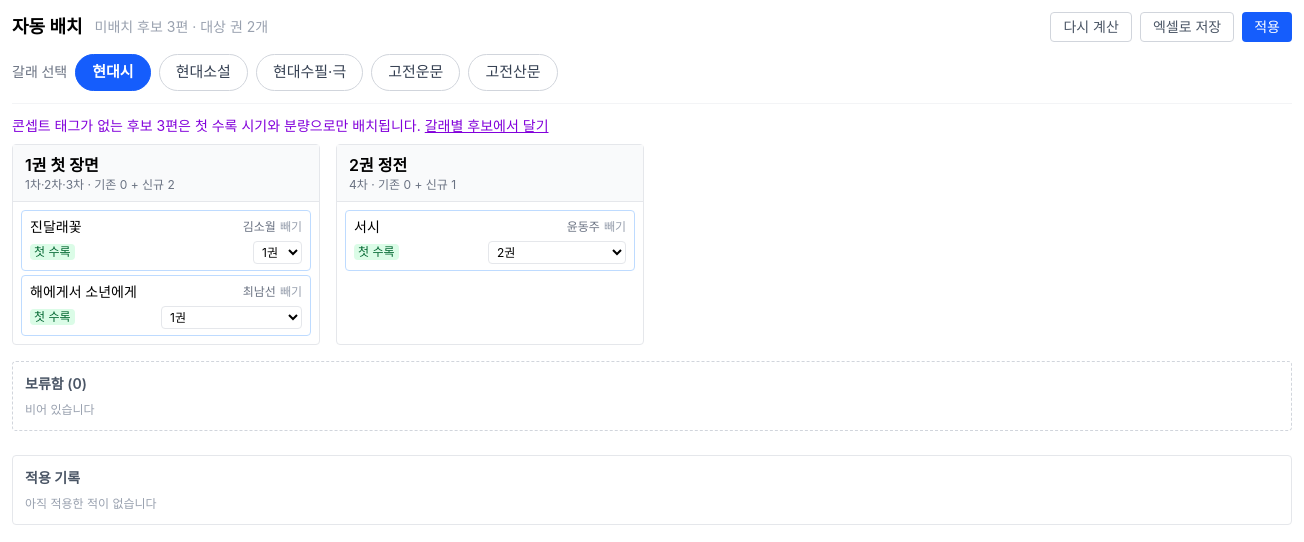
권 이동과 빼기가 즉시 반영된다
The image size is (1304, 542).
Select "2권" in the dropdown named "진달래꽃 권 이동" at (278, 252), box [253,240,302,264]
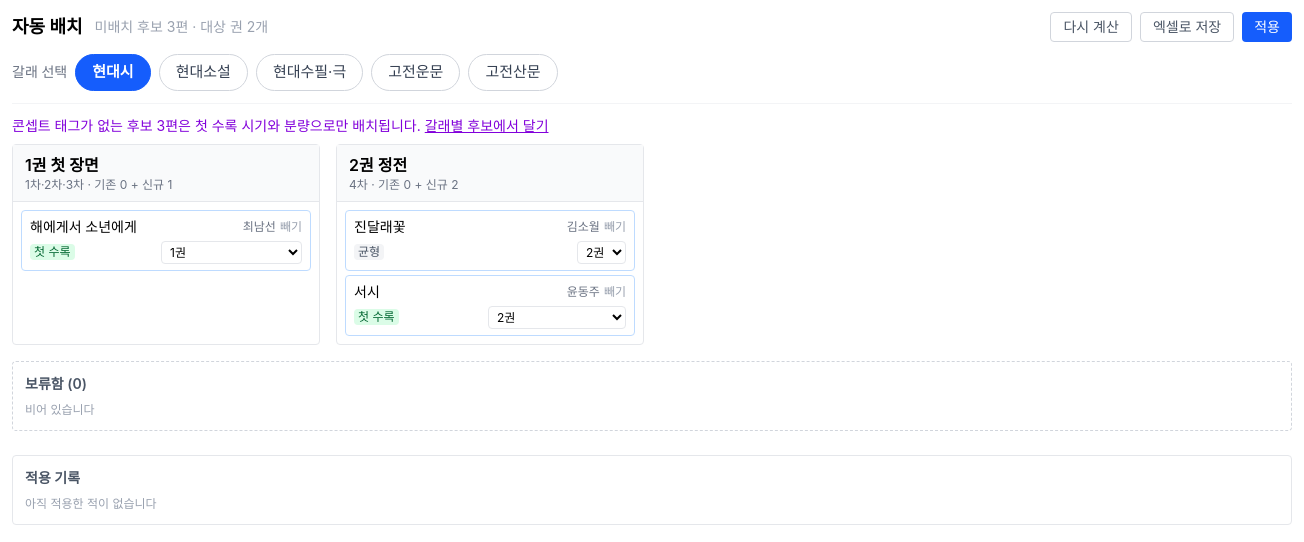
Click the button with aria-label "서시 빼기" at (615, 292), box [604,284,626,300]
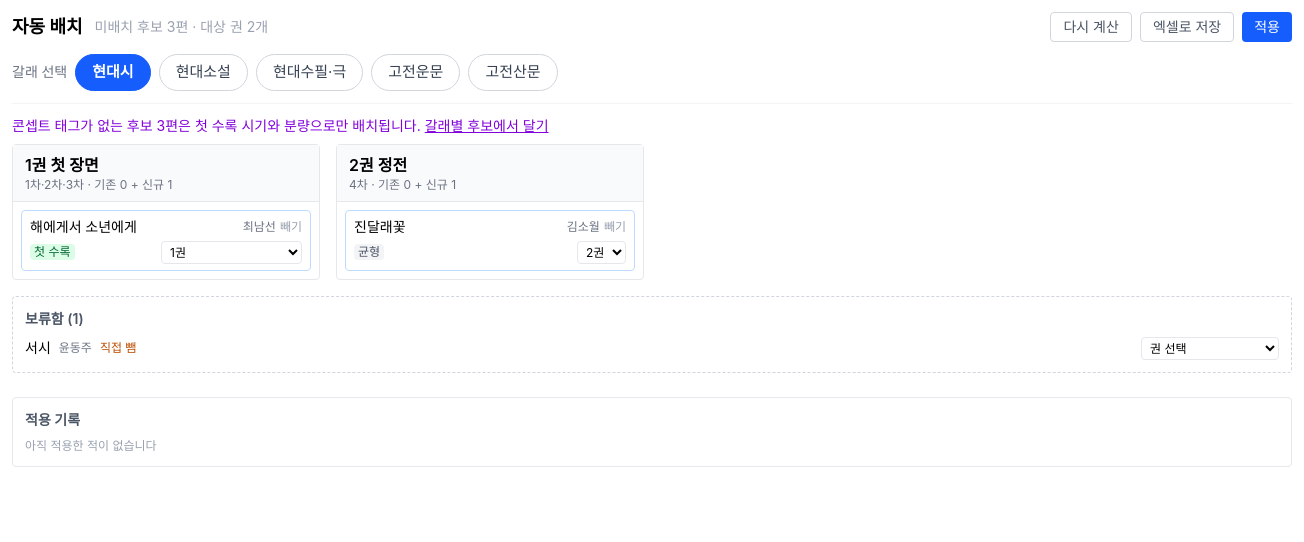
Expected: the text "서시" is shown, [25,338,51,358]
Expected: the text "직접 뺌" is shown, [100,340,136,356]
